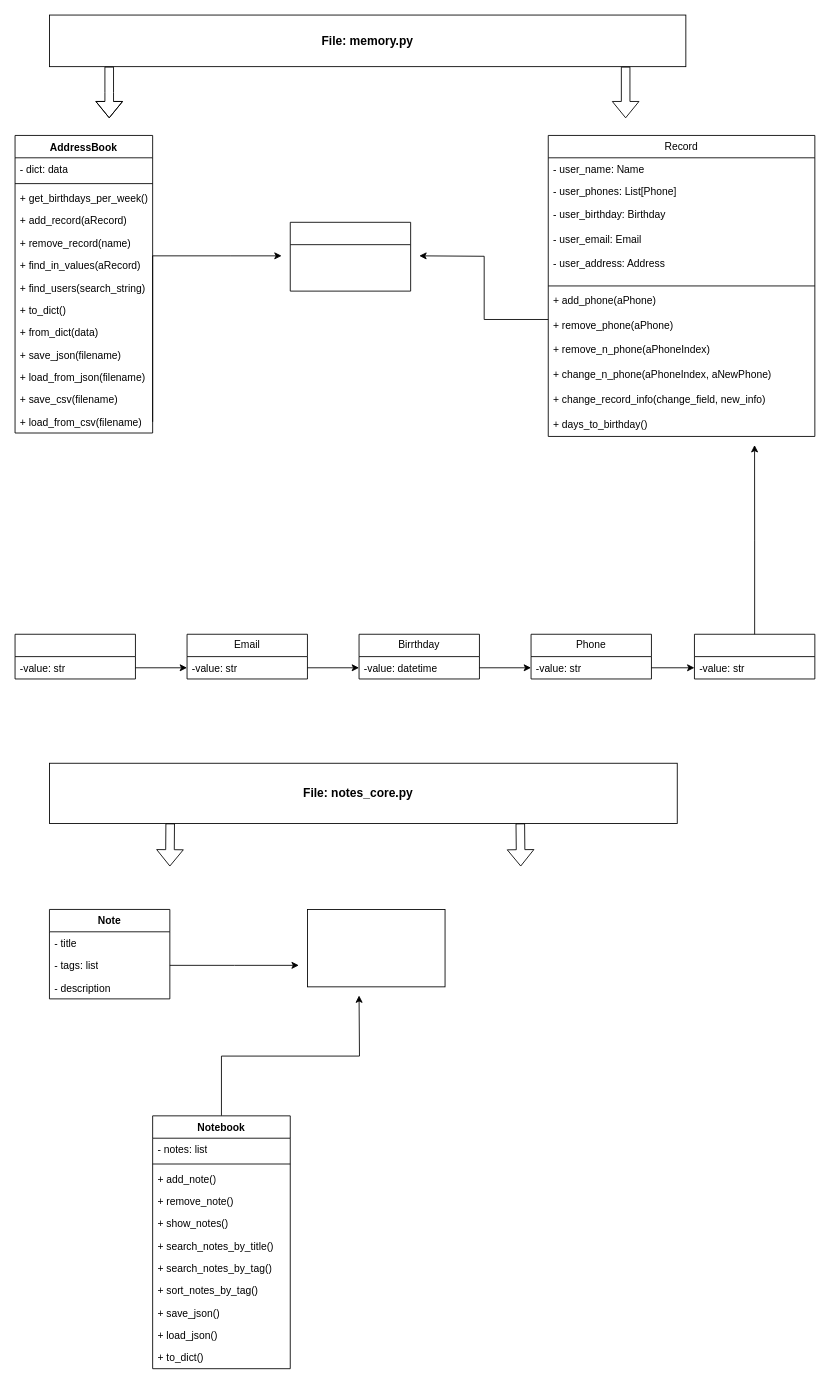
Image size: 830x1386. Some labels were removed from this diagram. Here are the shapes that lost their labels. From the top down, the box of each, then its label:
(289, 221, 411, 291): UserDict
(14, 633, 135, 679): Address
(694, 633, 815, 679): Name
(307, 909, 445, 987): Tag - name + name() + name()
